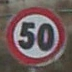limite 50: (5, 5, 66, 66)
